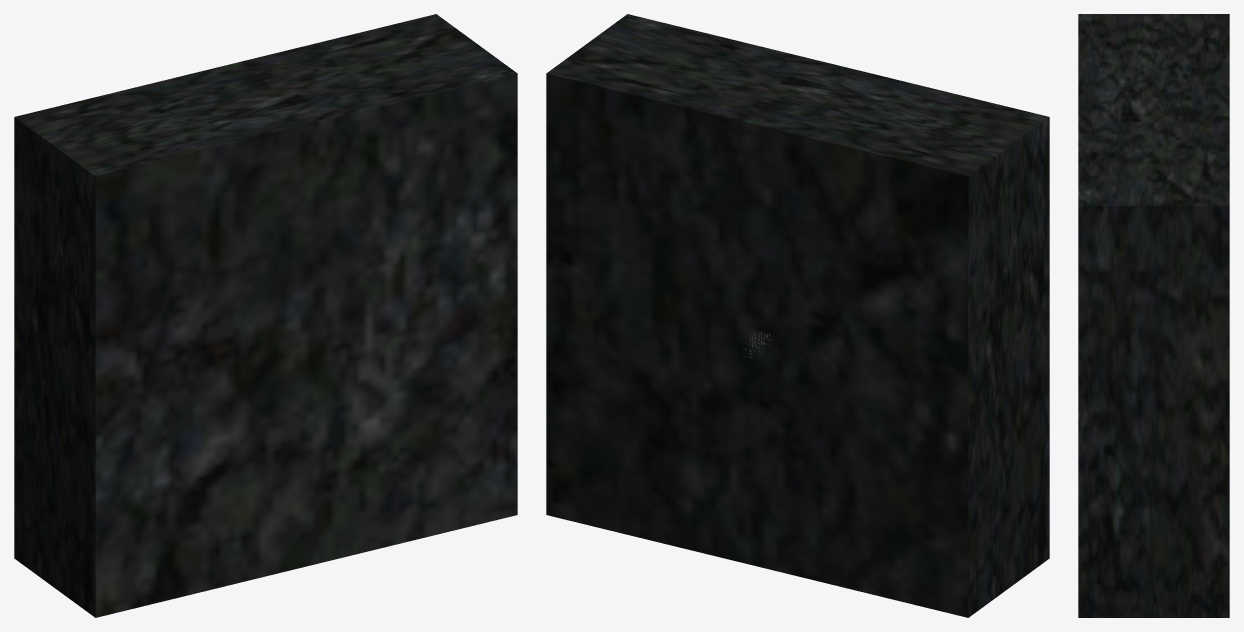
File: crystal.obj
3 views of the same model, side by side, from view 1: azimuth 30°, elevation 25°; view 2: azimuth 150°, elevation 25°; view 3: azimuth 270°, elevation 25° (orthographic). The views are drawn at different scales.
Parts seen in each view (by area): view 1: Cube; view 2: Cube; view 3: Cube.
Boxes of the visible parts, x1,y1,x2,y2 form: Cube: (14,14,517,617); Cube: (546,14,1049,617); Cube: (1078,14,1229,617).
Size of the model in its own units: 60 by 60 by 20.
2 materials, 1 textured.
